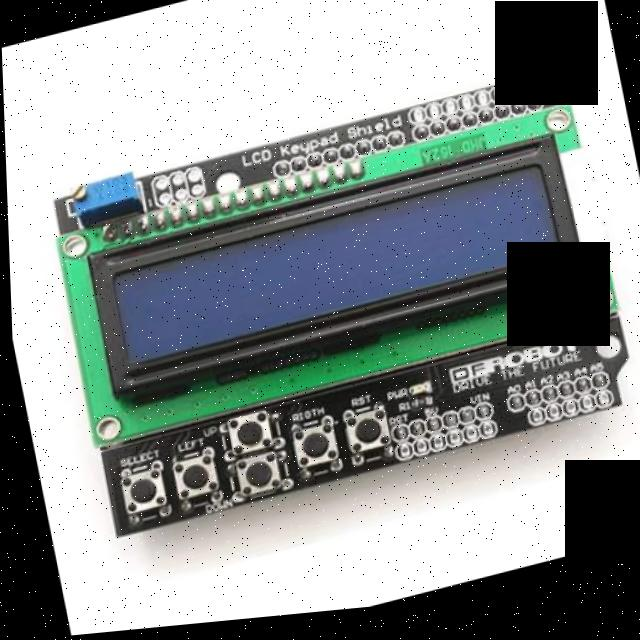2235: (158, 450, 223, 519), (109, 456, 168, 524), (337, 404, 391, 472), (224, 454, 287, 507), (287, 426, 338, 486), (221, 413, 272, 462)
LED: (399, 389, 426, 406)
display P5: (83, 143, 582, 400)
potentiometer POT1: (66, 167, 144, 230)
resistor IR1: (404, 398, 430, 420)
